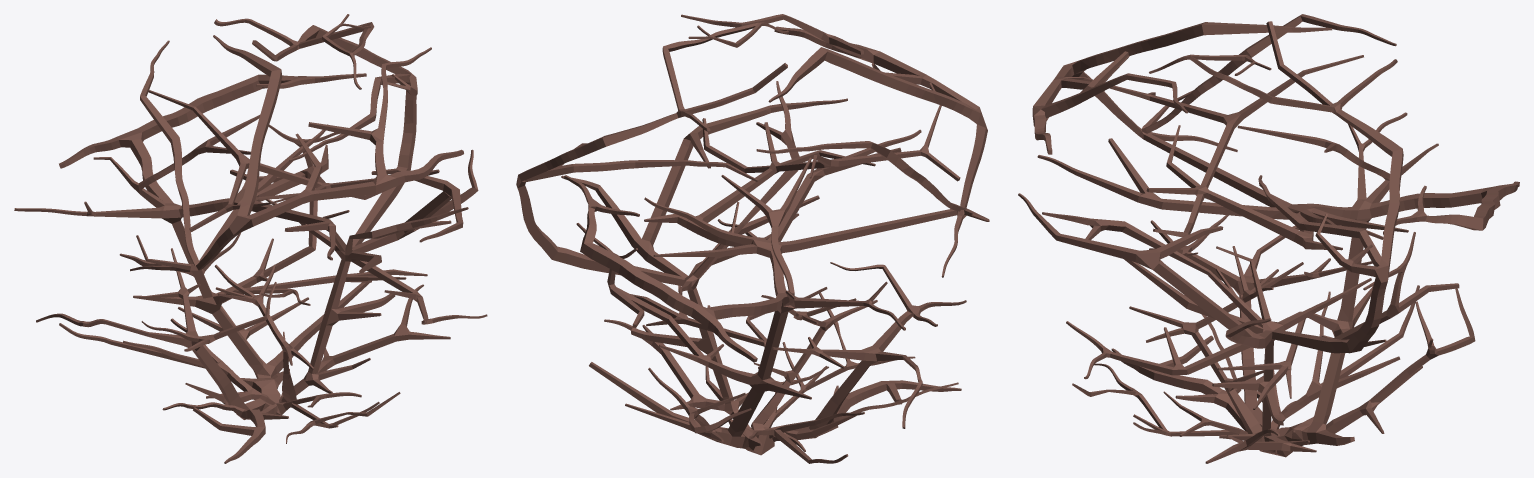
Rendered from LevelBush.fbx.
3 renders of one model, left to right at view 1: azimuth 30°, elevation 25°; view 2: azimuth 150°, elevation 25°; view 3: azimuth 270°, elevation 25°, orthographic. The views are drawn at different scales.
Visible parts, largest first — view 1: Plane; view 2: Plane; view 3: Plane.
Part boxes in pixels (x1,y1,x2,y2): Plane: (14,14,487,463); Plane: (516,14,989,463); Plane: (1018,14,1519,463).
Bounding box in the file's own units: 13083 × 12031 × 12920.
